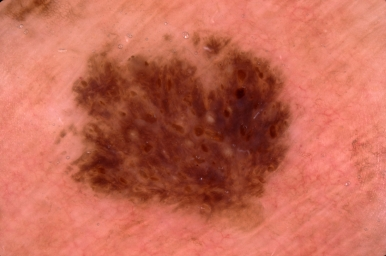seborrheic keratosis: (53, 24, 302, 232)
